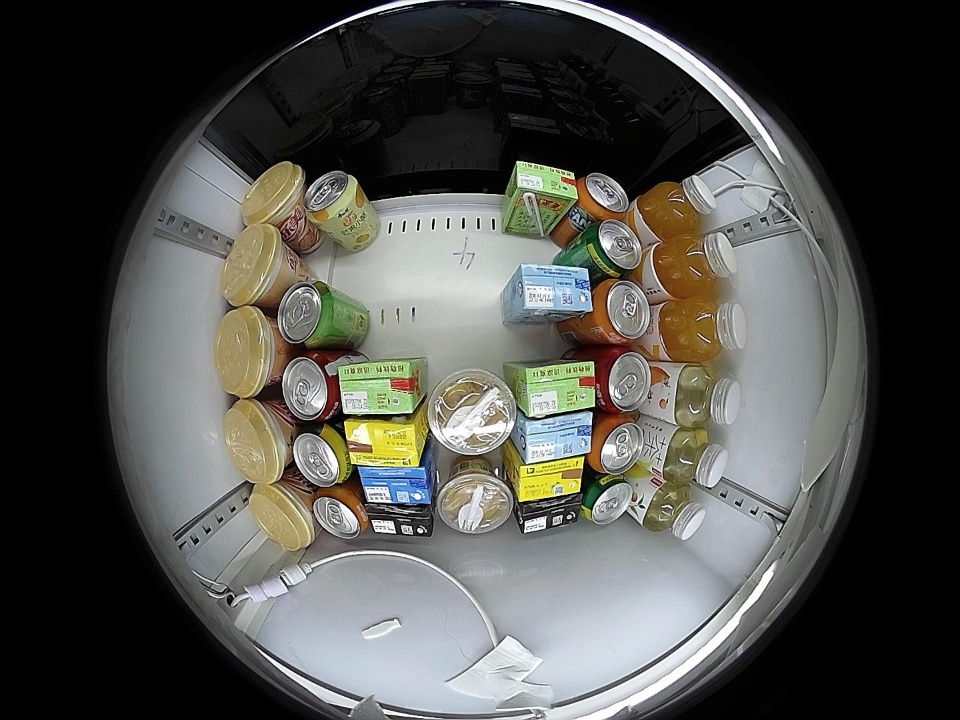chapai2: (672, 364, 743, 428), (661, 427, 729, 488), (641, 481, 706, 540)
fenda: (590, 279, 651, 345), (589, 414, 644, 475), (313, 486, 370, 541), (577, 172, 631, 221)
kele: (281, 352, 340, 422), (594, 347, 652, 413)
mangguoxiaolao: (304, 169, 361, 225)
quchenshixiangcao: (277, 280, 337, 348)
wanglaoji: (336, 356, 423, 416), (514, 357, 597, 417), (507, 161, 578, 211)
weic: (658, 297, 747, 362), (653, 232, 737, 298), (639, 174, 718, 240)
weitanai: (357, 465, 435, 504)
weitanai2: (515, 494, 581, 535), (367, 502, 434, 537)
weitanaiditang: (508, 263, 593, 321), (515, 411, 593, 464)
weitaningmeng: (344, 416, 427, 468), (510, 457, 585, 502)
xianguolao: (427, 369, 517, 456), (435, 462, 515, 535)
xuebi2: (292, 423, 352, 487), (583, 220, 643, 278), (580, 473, 634, 526)
youlemei: (215, 305, 280, 398), (221, 224, 290, 308), (224, 397, 290, 484), (249, 481, 316, 550), (241, 161, 306, 228)
